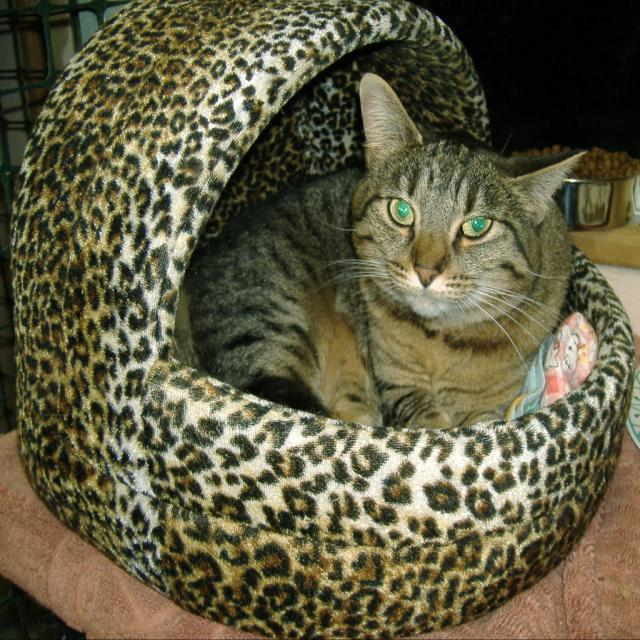Cat: (185, 68, 590, 438)
